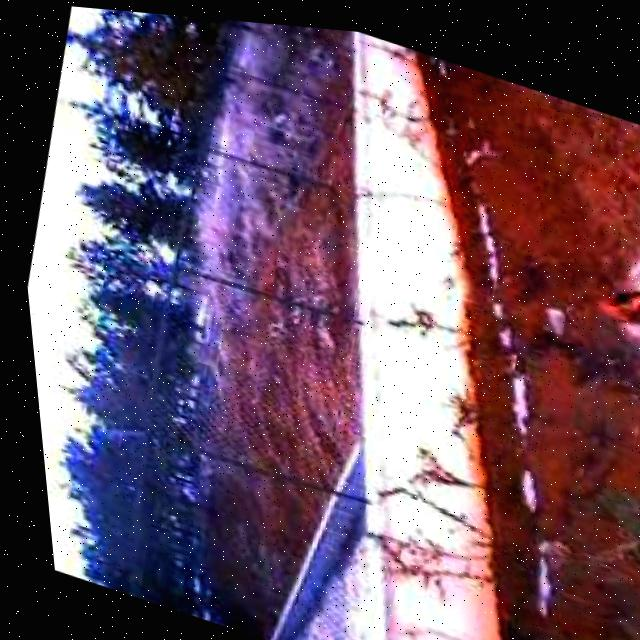Fire: (573, 230, 640, 335)
